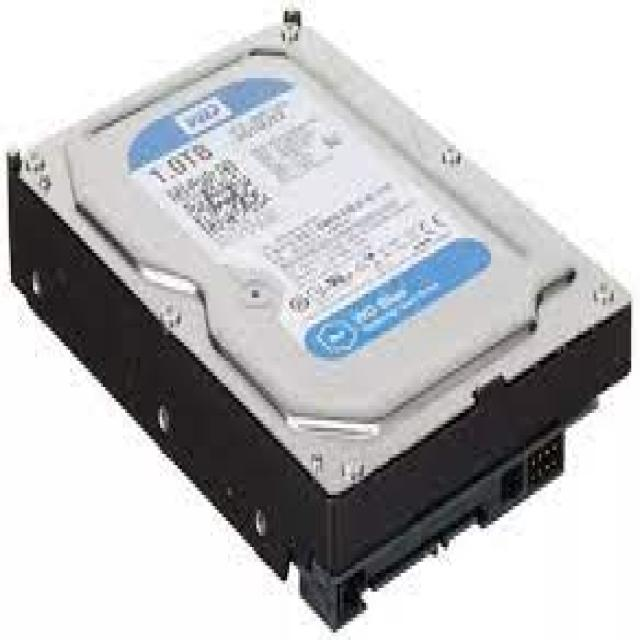Hazard: (14, 12, 612, 566)
